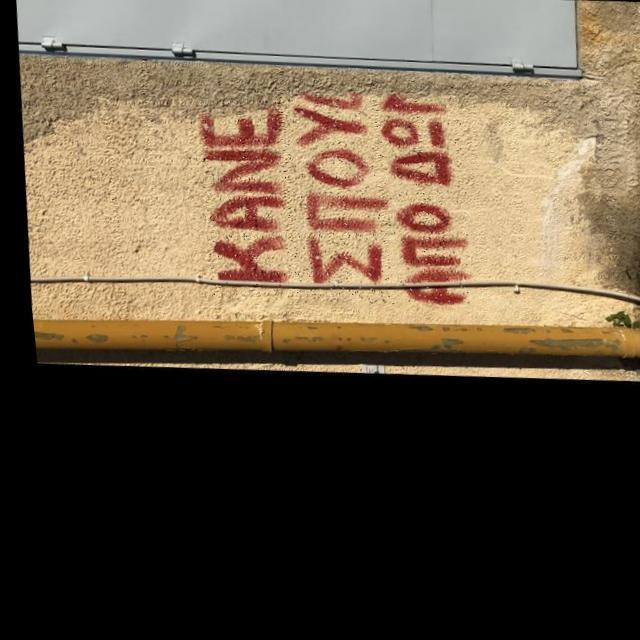-: (184, 83, 478, 314)
